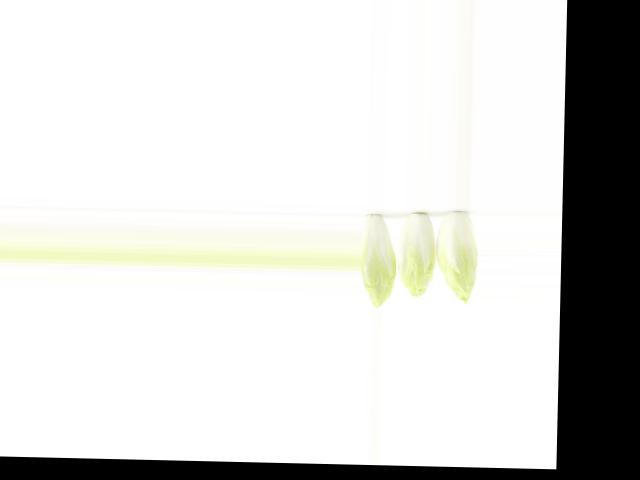lettuce: (436, 207, 479, 304)
